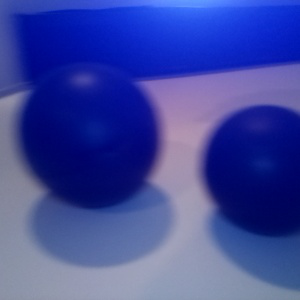dead_ball: (18, 66, 159, 207), (203, 105, 300, 233)
